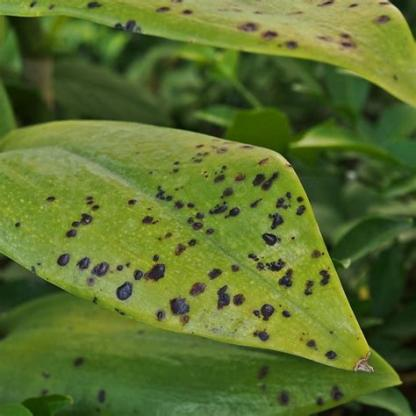black-spot: (112, 152, 278, 312)
